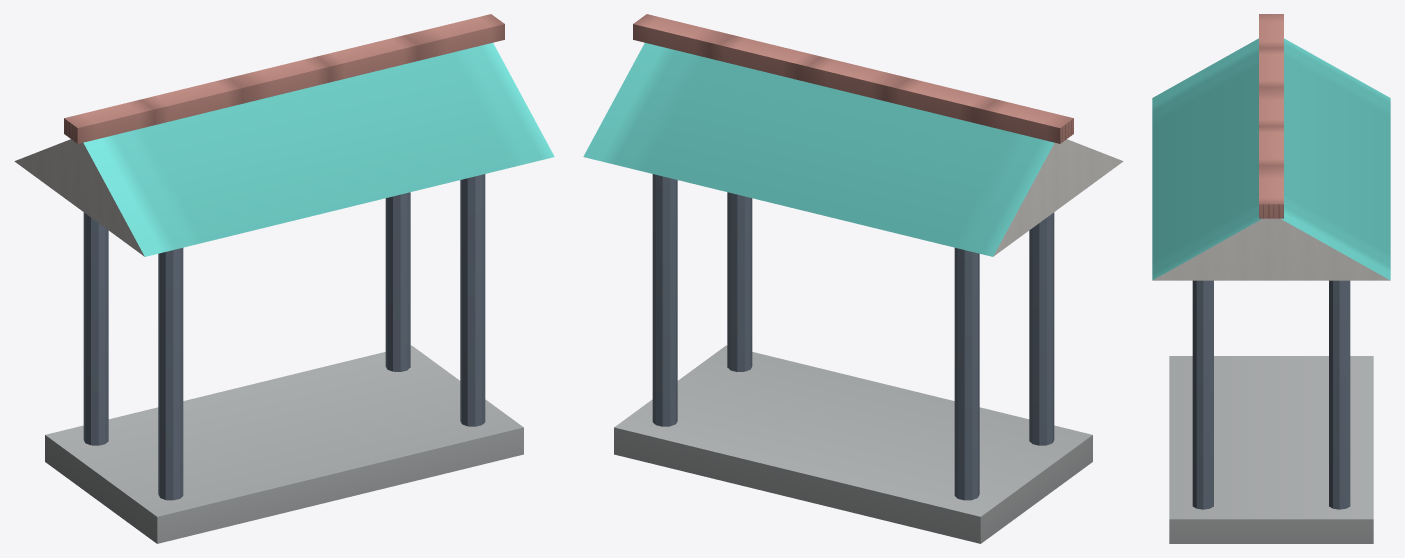
File: billboard_blank.glb
The picture shows the model from 3 angles, left to right: view 1: azimuth 30°, elevation 25°; view 2: azimuth 150°, elevation 25°; view 3: azimuth 270°, elevation 25°; orthographic projection. The views are drawn at different scales.
Parts seen in each view (by area): view 1: billboard_blank; view 2: billboard_blank; view 3: billboard_blank.
Part boxes in pixels (x1=…): billboard_blank: x1=14, y1=14, x2=554, y2=543; billboard_blank: x1=583, y1=14, x2=1123, y2=543; billboard_blank: x1=1152, y1=14, x2=1390, y2=543.
Bounding box in the file's own units: 3.96 × 3.43 × 2.1.
Materials: 1 (1 with a texture image).
